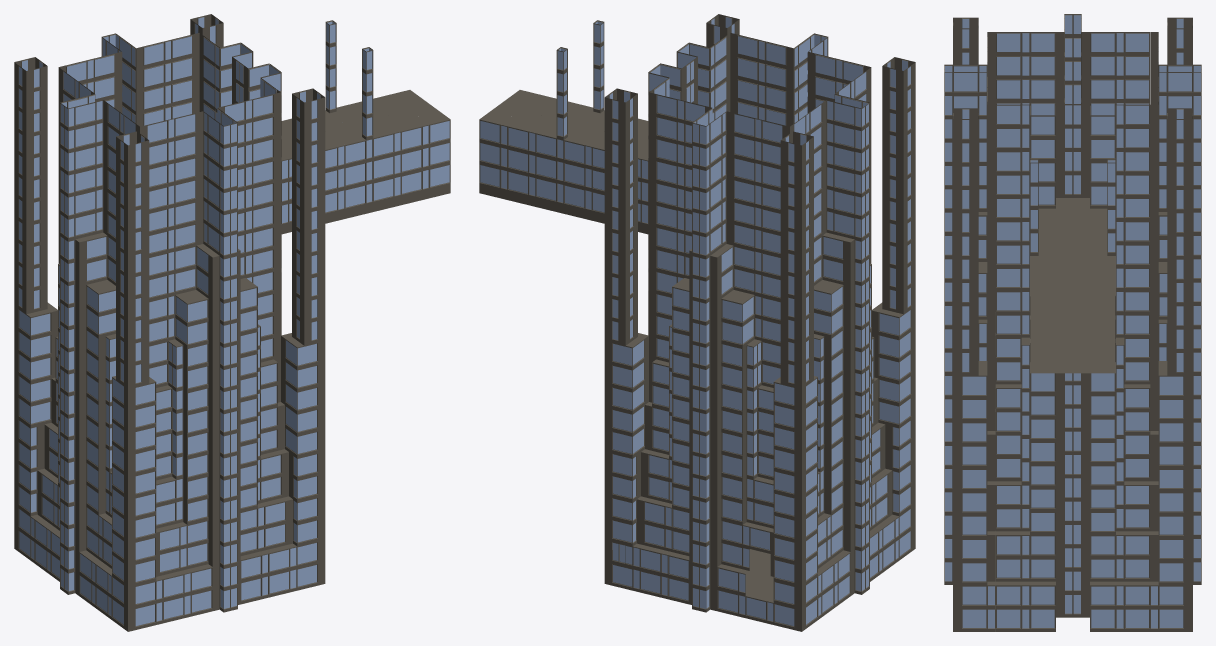
Rendered from ImeubleArche.fbx.
The picture shows the model from 3 angles, left to right: view 1: azimuth 30°, elevation 25°; view 2: azimuth 150°, elevation 25°; view 3: azimuth 270°, elevation 25°; orthographic projection. The views are drawn at different scales.
Parts seen in each view (by area): view 1: group86; view 2: group86; view 3: group86.
Part boxes in pixels (left/top/right/bottom): group86: left=14, top=14, right=450, bottom=631; group86: left=479, top=14, right=915, bottom=631; group86: left=944, top=14, right=1201, bottom=631.
Size of the model in its own units: 5.2 by 6.6 by 3.
